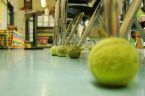tennis ball: (87, 35, 144, 90), (67, 44, 83, 61), (50, 43, 61, 57), (56, 45, 68, 57)
